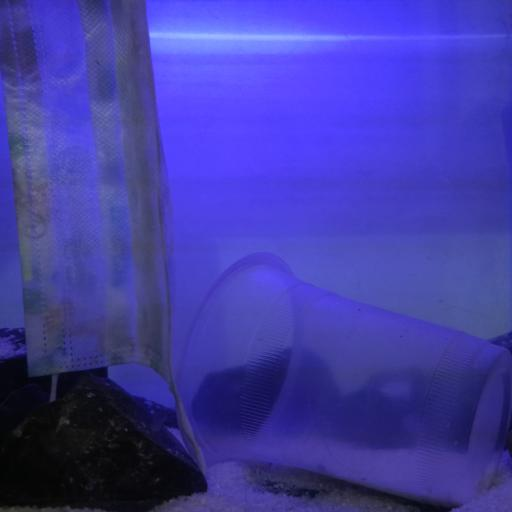mask: (0, 0, 188, 444)
plastic_cup: (177, 250, 512, 506)
